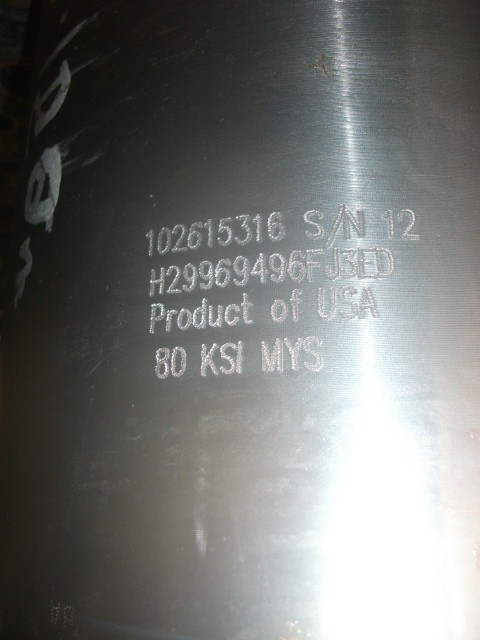character: (323, 203, 346, 250), (357, 285, 382, 322), (357, 244, 379, 281), (374, 244, 396, 281), (260, 337, 282, 374), (282, 336, 304, 373), (303, 335, 325, 372), (342, 207, 366, 240), (316, 284, 338, 320), (337, 285, 359, 321), (304, 248, 325, 284), (398, 207, 420, 241), (266, 211, 288, 243), (303, 208, 325, 240), (200, 342, 219, 378), (219, 340, 238, 376), (250, 251, 269, 286), (267, 251, 286, 286), (287, 249, 306, 284), (154, 345, 172, 381), (169, 344, 187, 380), (341, 245, 358, 283), (148, 302, 166, 337), (214, 256, 232, 290), (232, 254, 250, 288), (240, 290, 257, 325), (192, 296, 209, 330), (324, 246, 340, 281), (216, 217, 234, 248), (234, 214, 252, 245), (289, 288, 304, 325), (170, 224, 189, 253), (149, 265, 166, 297), (165, 264, 182, 296), (181, 262, 198, 294), (197, 260, 214, 292), (380, 207, 396, 240), (188, 219, 205, 250), (223, 302, 243, 328), (270, 298, 288, 324), (157, 226, 172, 257), (234, 338, 246, 376), (202, 217, 216, 249), (208, 302, 224, 330), (251, 212, 264, 244), (177, 307, 193, 333), (164, 308, 178, 334), (144, 227, 155, 258)
